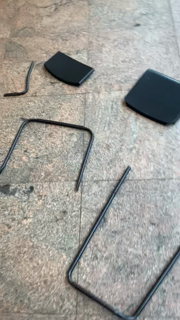Back: (43, 51, 96, 91)
C pipe: (1, 118, 97, 195)
L pipe: (4, 61, 38, 100)
U pipe: (66, 164, 179, 319)
